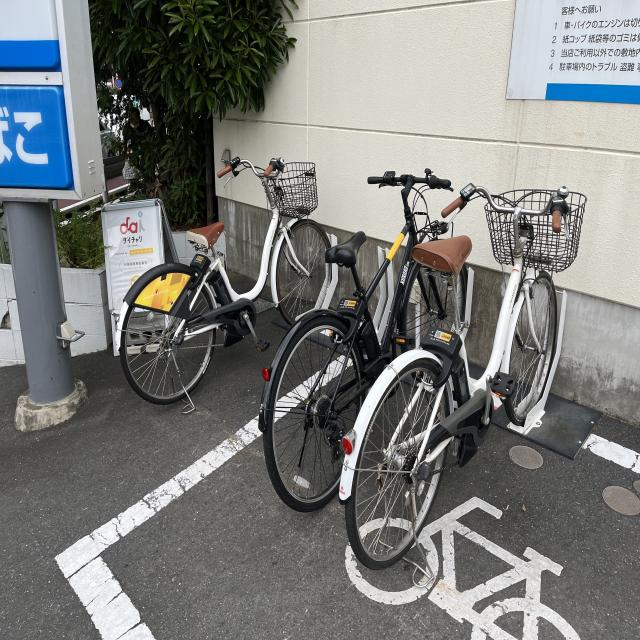basket: (480, 186, 591, 274), (262, 159, 318, 218)
battery: (209, 270, 231, 318), (449, 359, 469, 410), (360, 319, 381, 362)
